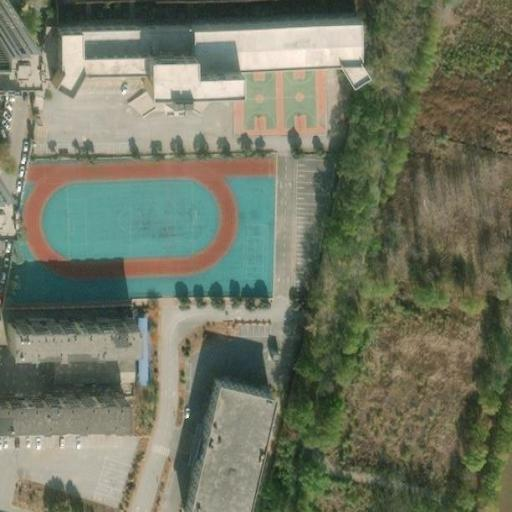building: (178, 371, 264, 512), (182, 27, 364, 90), (39, 27, 141, 93), (0, 390, 119, 423), (5, 316, 126, 346), (141, 53, 229, 90), (75, 27, 182, 53), (50, 354, 121, 383), (136, 311, 151, 383)
